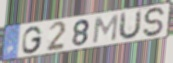2: (46, 20, 67, 53)
8: (72, 19, 91, 48)
G: (21, 25, 44, 55)
M: (91, 13, 120, 44)
S: (142, 6, 167, 38)
U: (117, 9, 143, 42)
